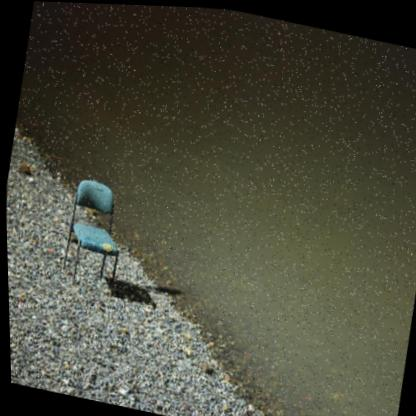Chair: (41, 163, 135, 301)
